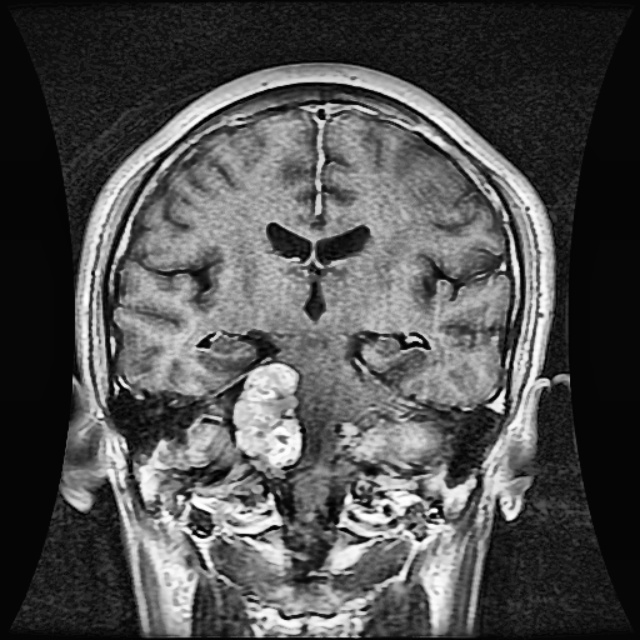Glioma: (233, 360, 304, 465)
